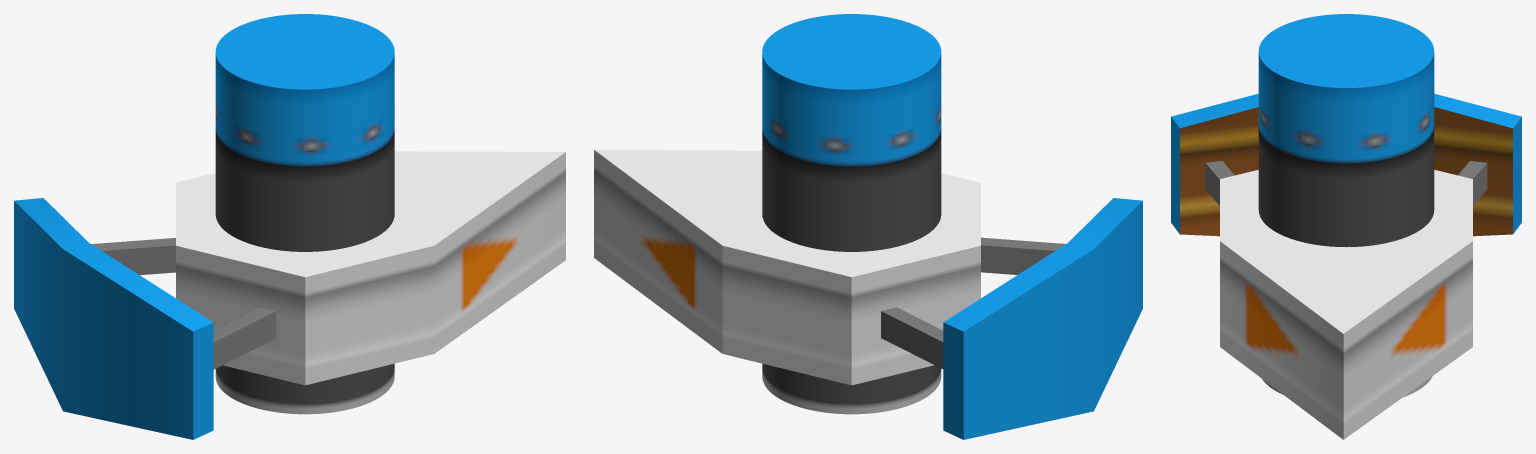
File: radar2.obj
3 renders of one model, left to right at view 1: azimuth 30°, elevation 25°; view 2: azimuth 150°, elevation 25°; view 3: azimuth 270°, elevation 25°, orthographic. The views are drawn at different scales.
Visible parts, largest first — view 1: ColobotMesh_1_ColobotMesh_; view 2: ColobotMesh_1_ColobotMesh_; view 3: ColobotMesh_1_ColobotMesh_.
Boxes of the visible parts, <box> form: ColobotMesh_1_ColobotMesh_: <box>14,14,565,439</box>; ColobotMesh_1_ColobotMesh_: <box>594,14,1142,439</box>; ColobotMesh_1_ColobotMesh_: <box>1171,14,1521,439</box>.
Size of the model in its own units: 9.69 by 6 by 6.
